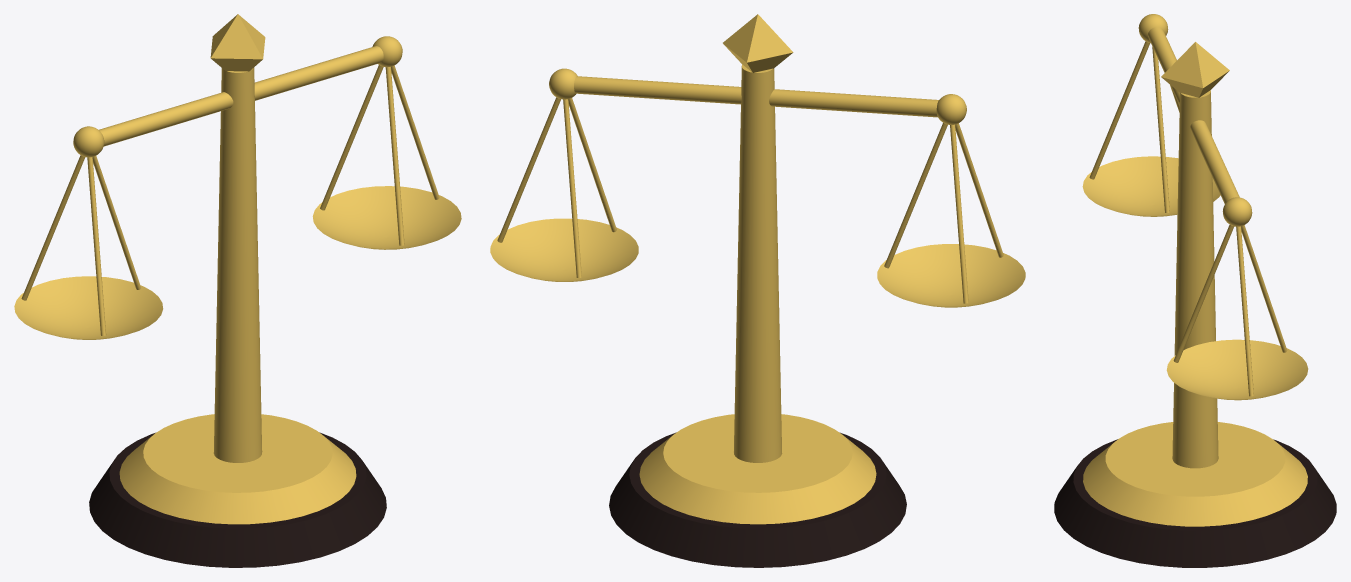
Rendered from timbangan.glb.
3 views of the same model, side by side, from view 1: azimuth 30°, elevation 25°; view 2: azimuth 150°, elevation 25°; view 3: azimuth 270°, elevation 25° (orthographic). The views are drawn at different scales.
Bounding box in the file's own units: 1.61 × 1.6 × 0.8783.
